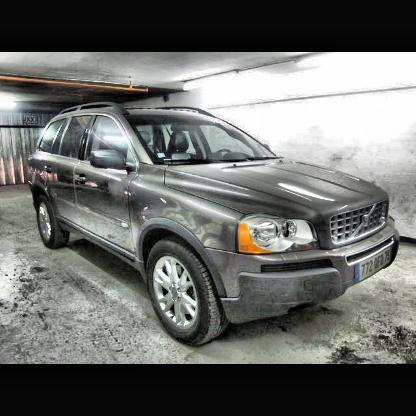Volvo XC90 SUV 2007: (29, 103, 402, 353)
